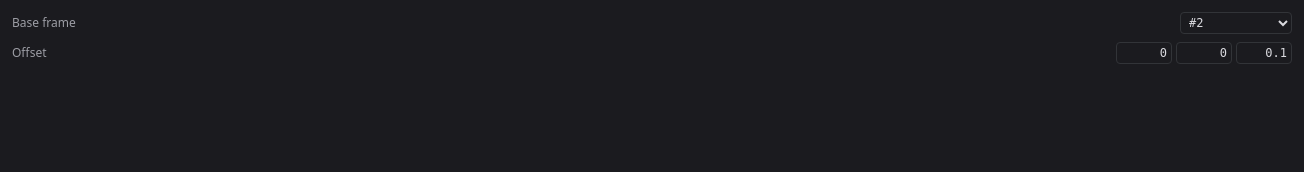
TcpPanel — frame selector + offset inputs + resolved pose (tcp-resolved-pose R2/R3) › posts selectToolFrame(null) when the selector is cleared (R2 clear scenario)
The image size is (1304, 172).
Select "Clear (no TCP)" in the dropdown named "TCP base frame": (1236,23) [1180,12,1292,34]
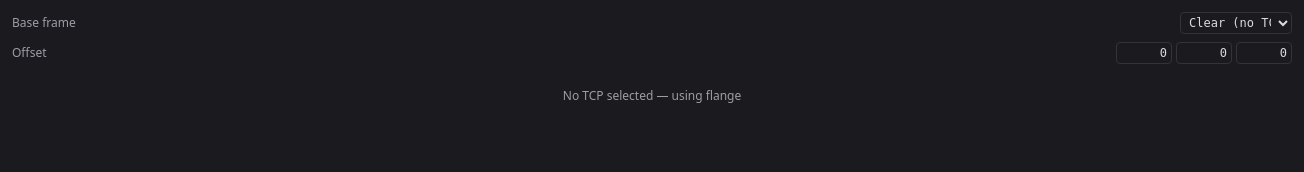
Expected: the text "No TCP selected — using flange" is shown, [563,87,741,104]
